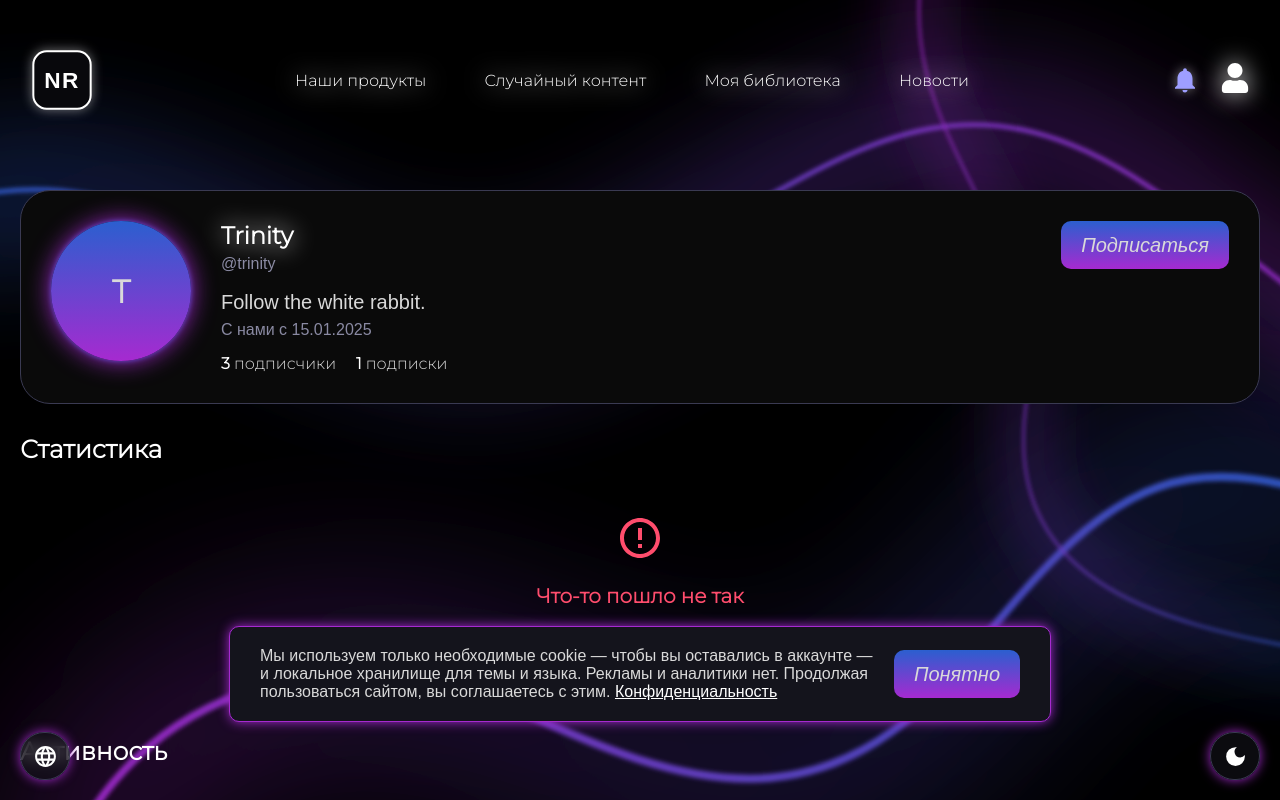
Test: Follows › lists followers and following in a dialog
Click the button "3 подписчики" at (279, 364), box x1=221 y1=354 x2=336 y2=373
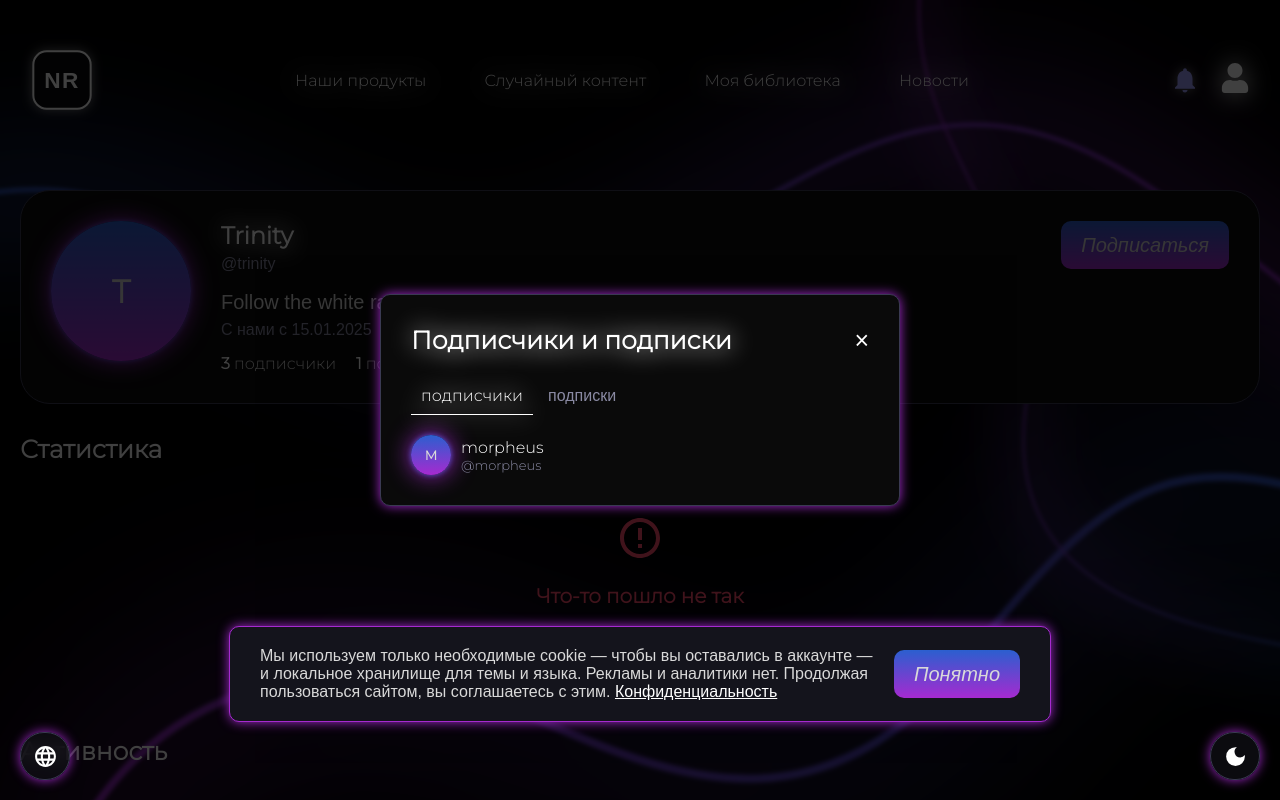
Click the button "подписки" at (582, 396), box x1=538 y1=376 x2=626 y2=415
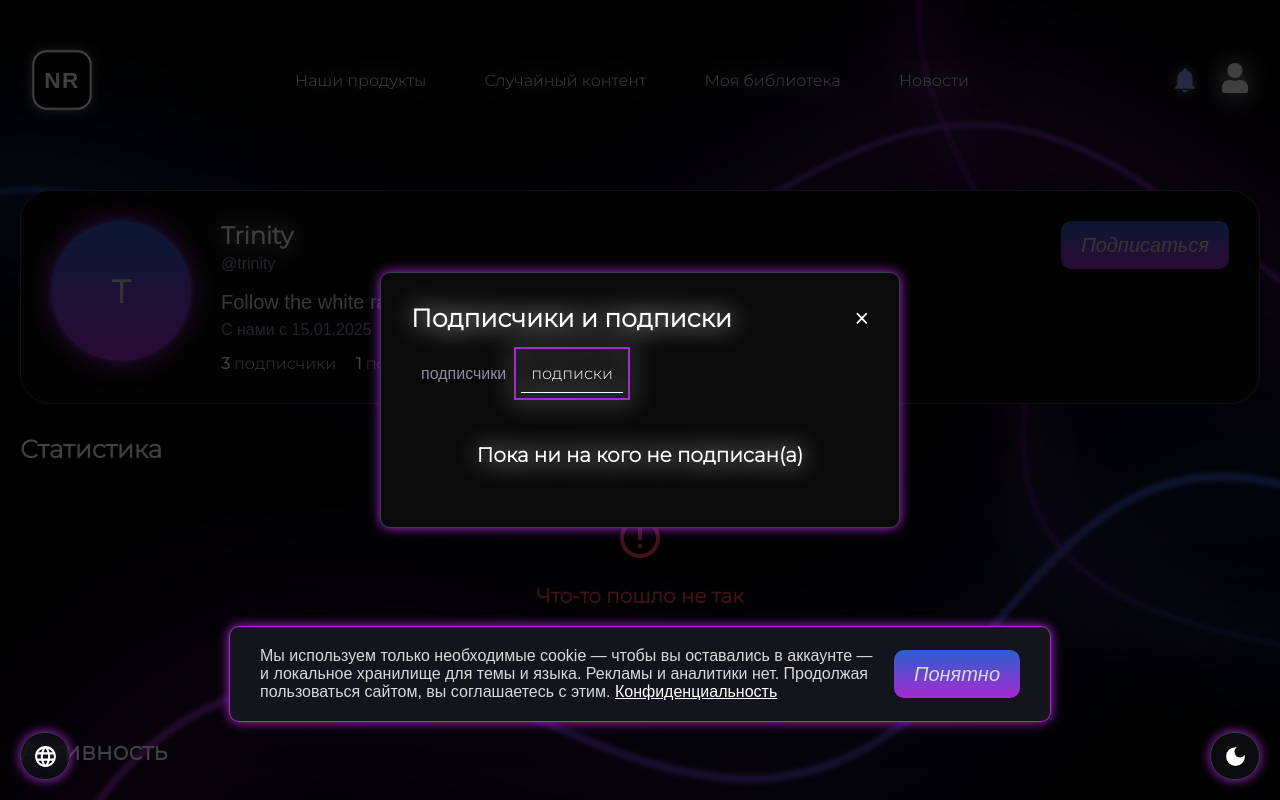
Now the heading "Пока ни на кого не подписан(а)" is shown, box x1=477 y1=443 x2=803 y2=467
